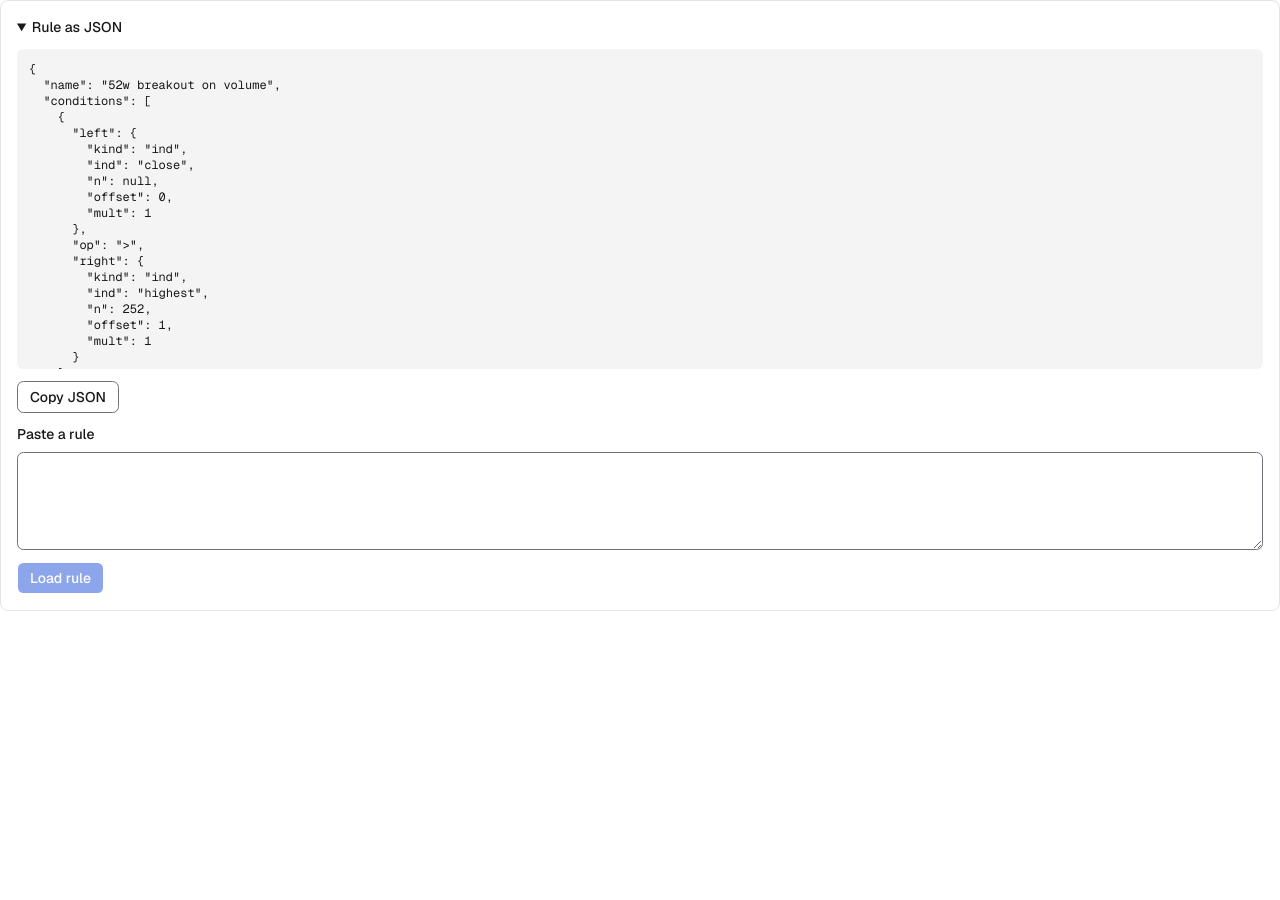
it: JsonPanel › clears Not a rule as soon as you edit the paste box
Step 1. Click the text box labelled "Paste a rule" → (640, 501), box x1=17 y1=452 x2=1263 y2=550
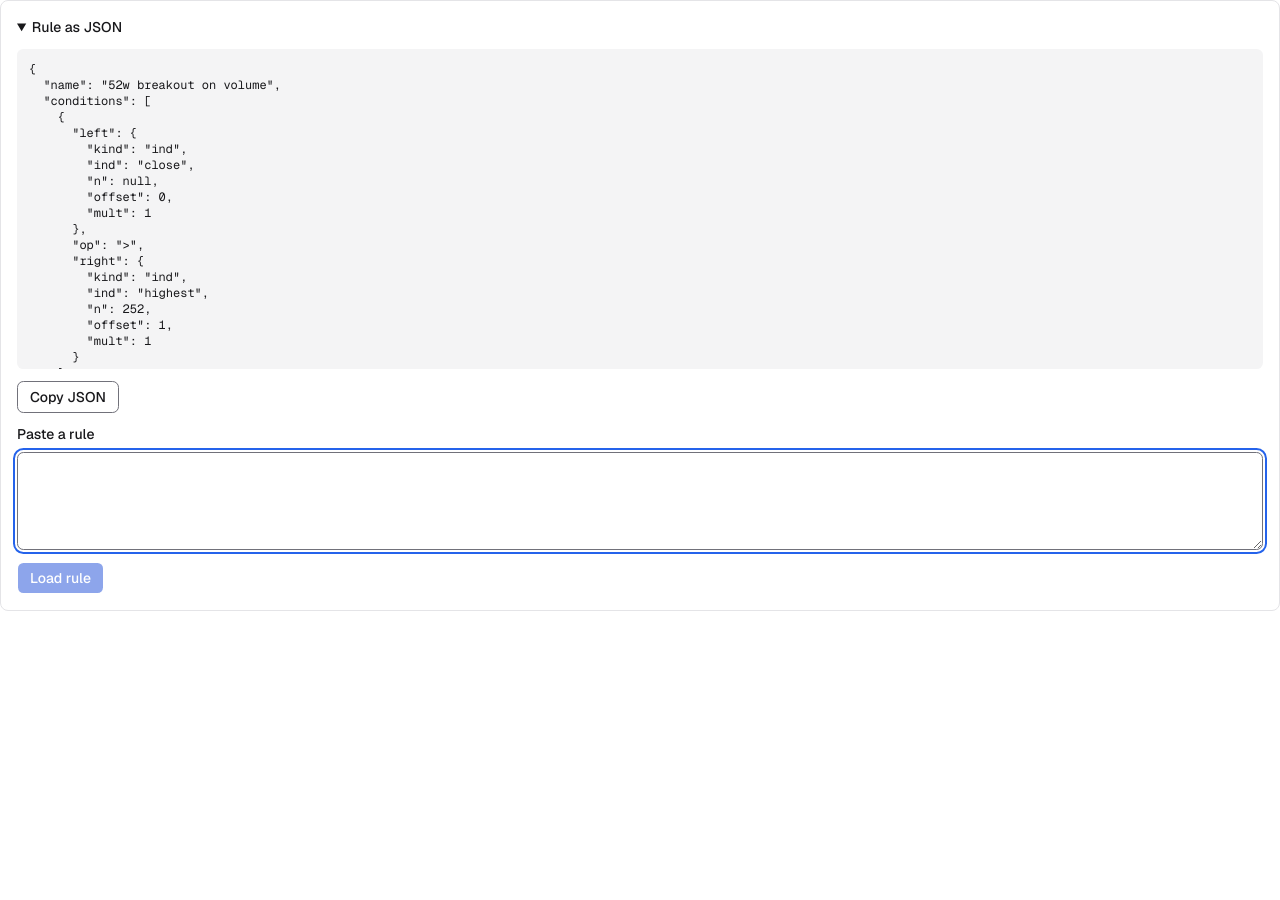
Step 2. Type keys "nope"
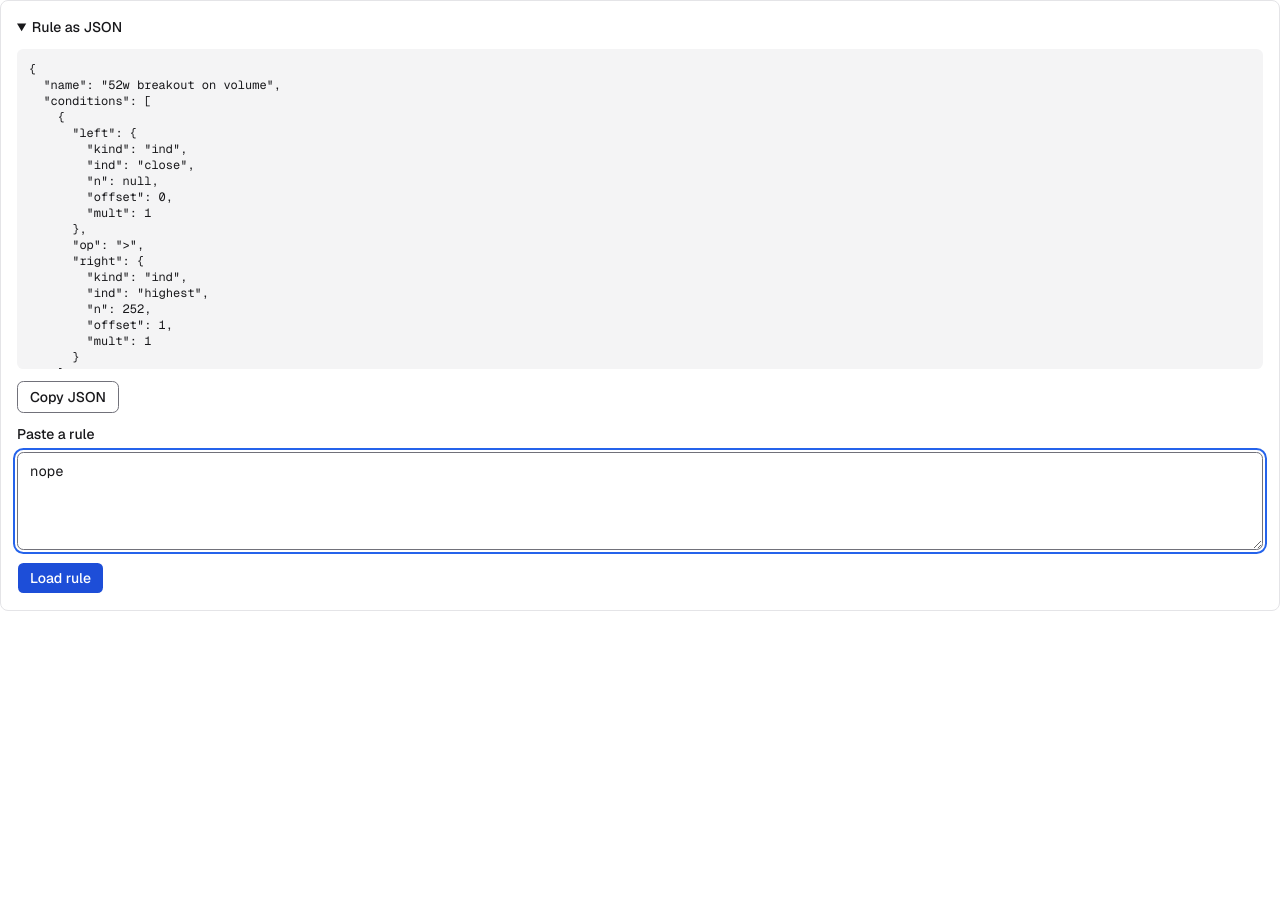
Step 3. Click the button "Load rule" → (60, 578), box x1=17 y1=562 x2=104 y2=594
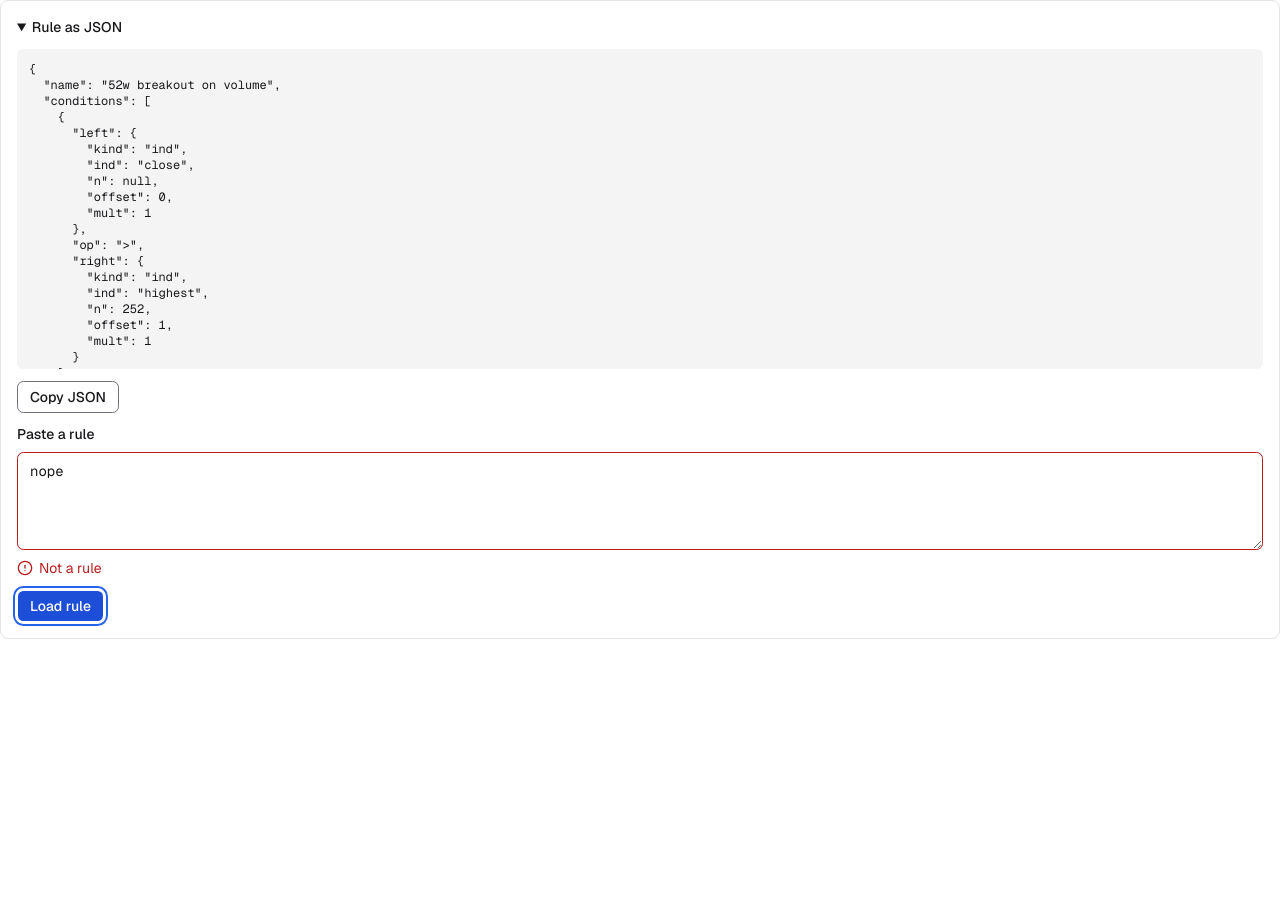
expect the text "Not a rule" is shown: met, box x1=39 y1=558 x2=102 y2=578
Step 4. Type "!" into the text box labelled "Paste a rule" → (640, 501), box x1=17 y1=452 x2=1263 y2=550
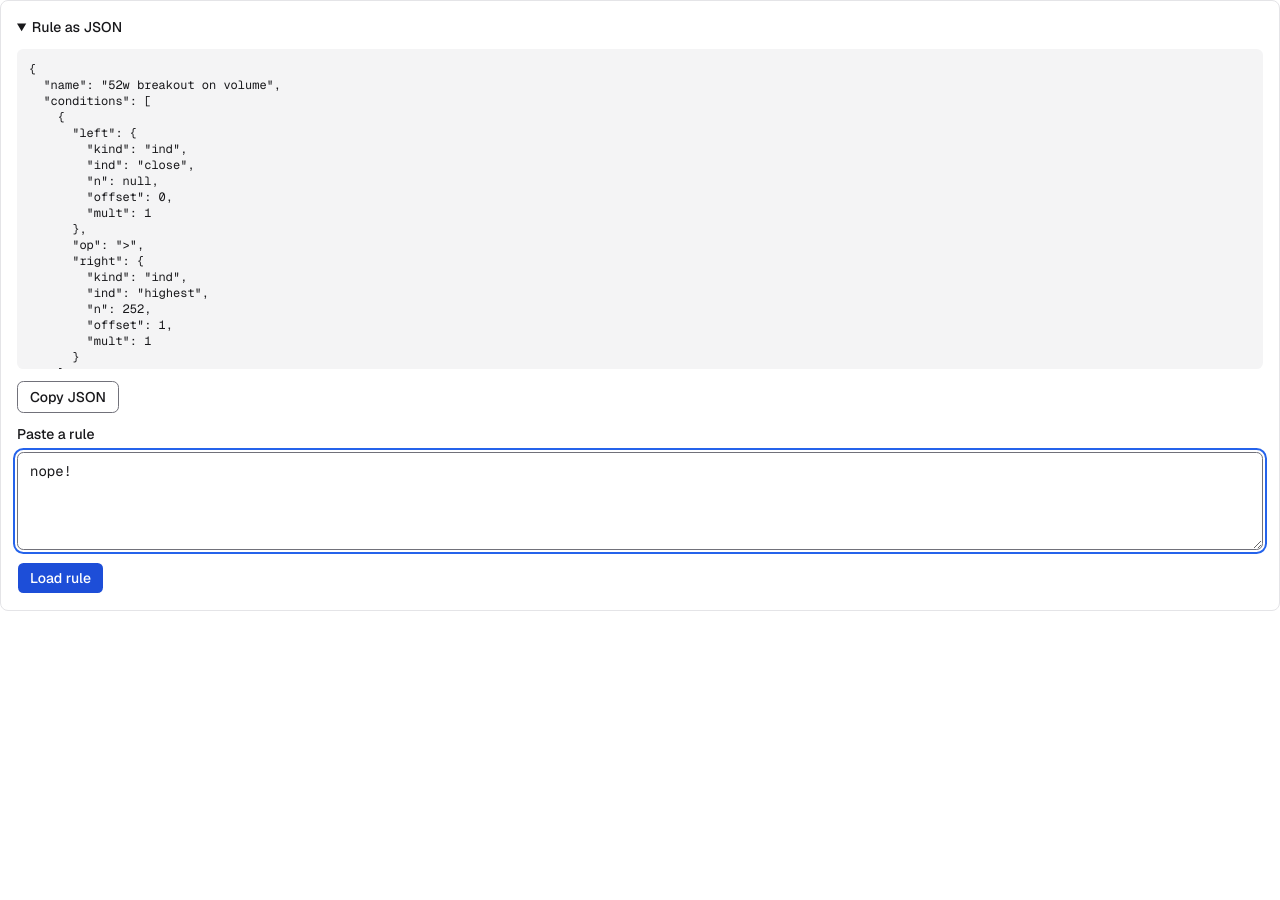
expect the text "Not a rule" is gone: met
